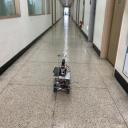cart: (52, 70, 70, 94)
